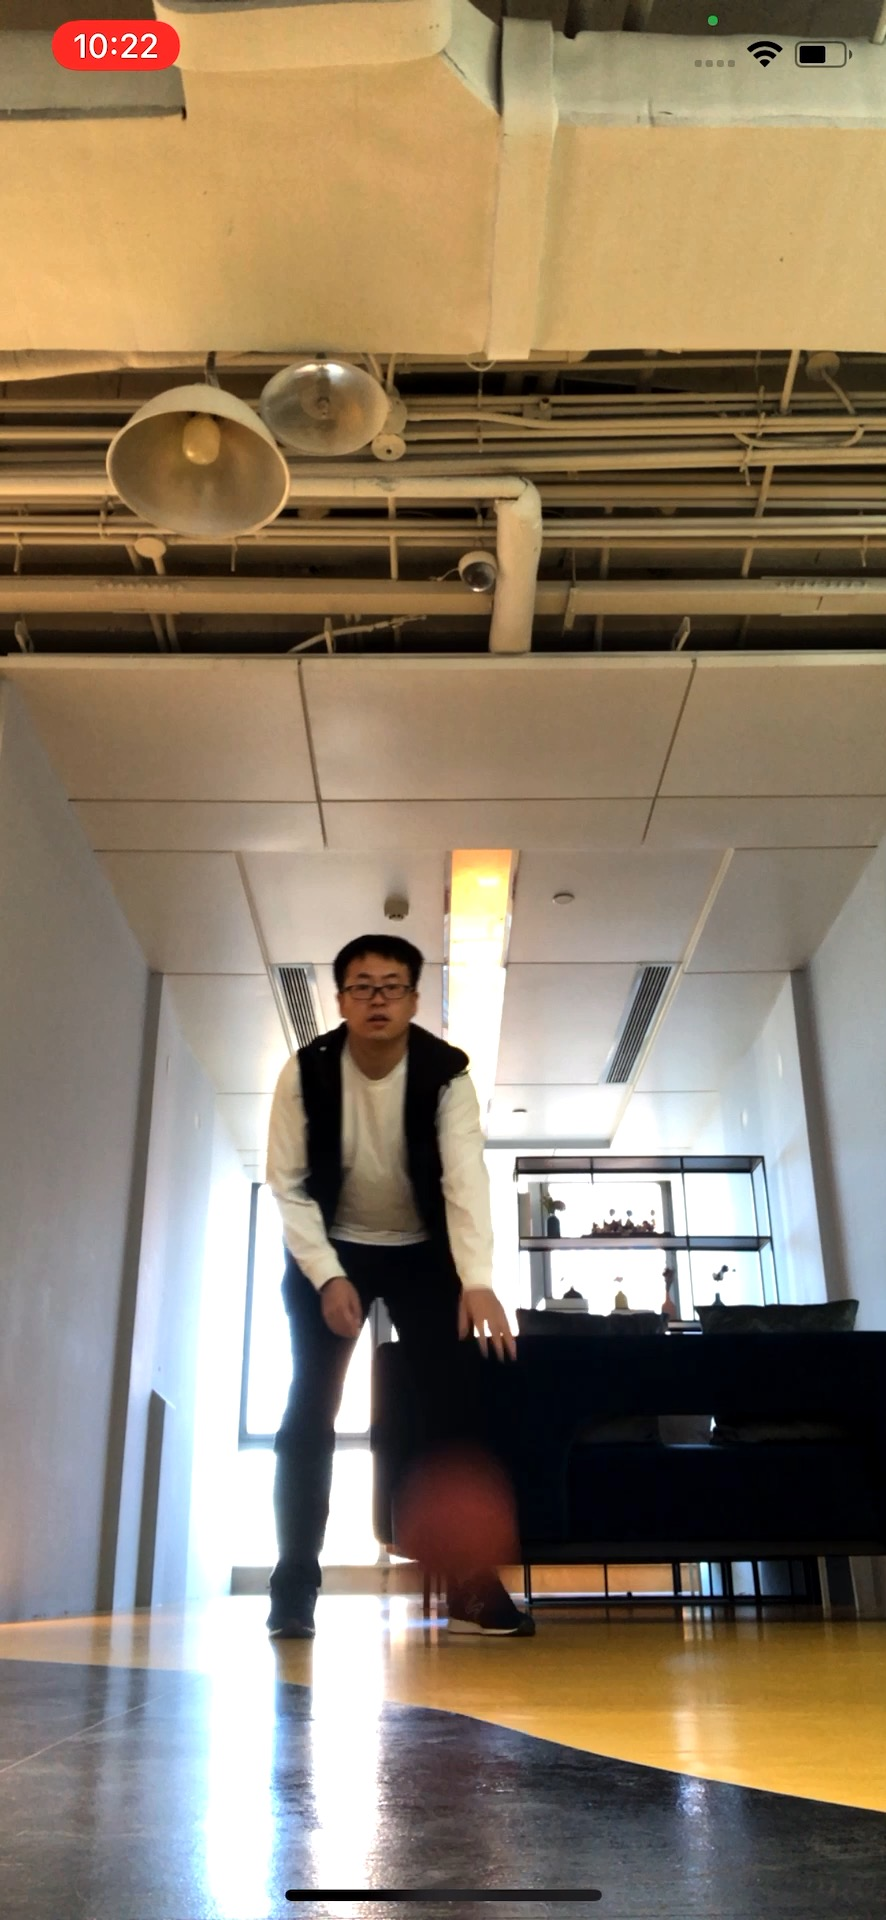ball: (396, 1469, 514, 1588)
